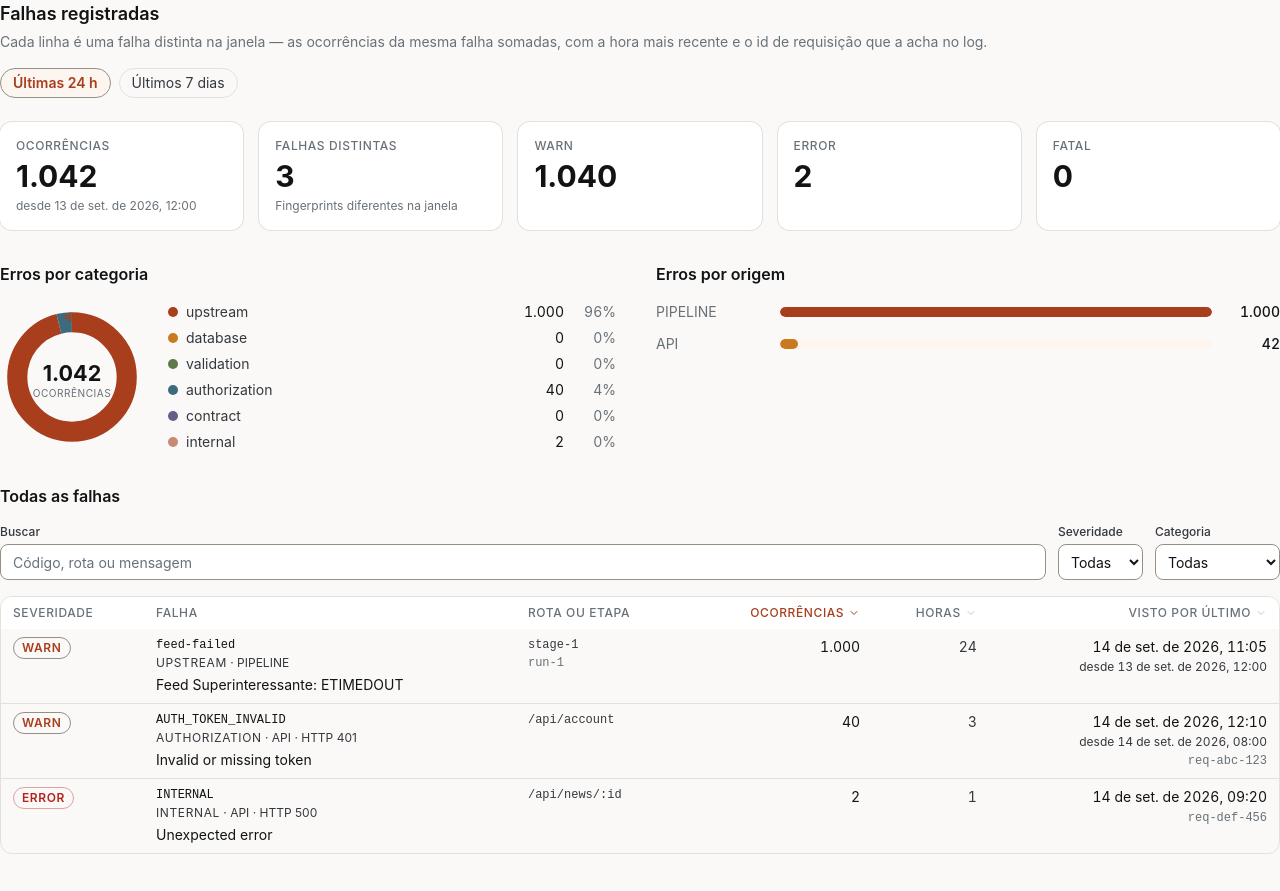
Test: SecurityClient — as falhas registradas › filters by severity, by category and by text
Select "ERROR" in the dropdown labelled "Severidade" at x=1100, y=562, box top-left (1058, 544), bottom-right (1143, 580)
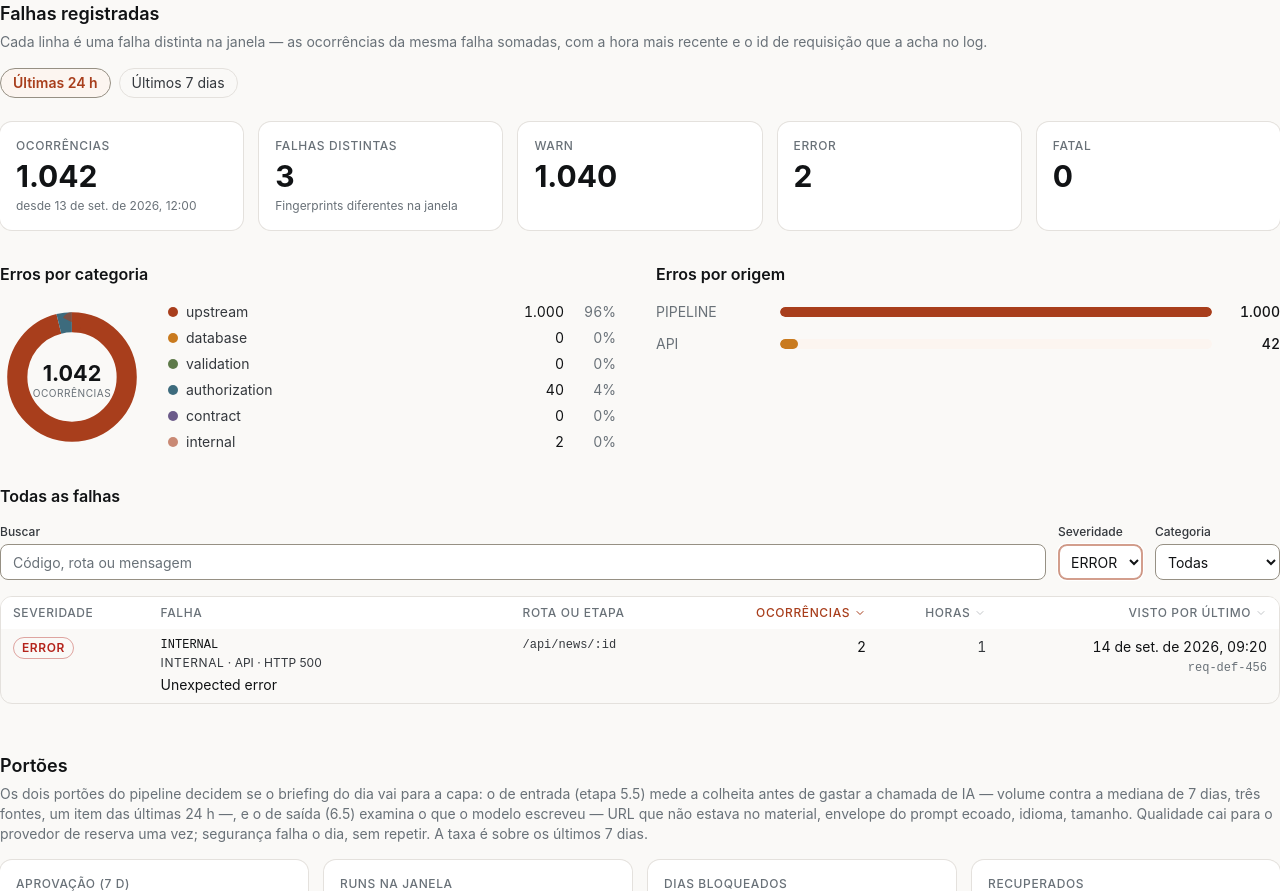
Expected: the text "INTERNAL" is shown, top-left (161, 638), bottom-right (218, 652)
Select "Todas" in the dropdown labelled "Severidade" at x=1100, y=562, box top-left (1058, 544), bottom-right (1143, 580)
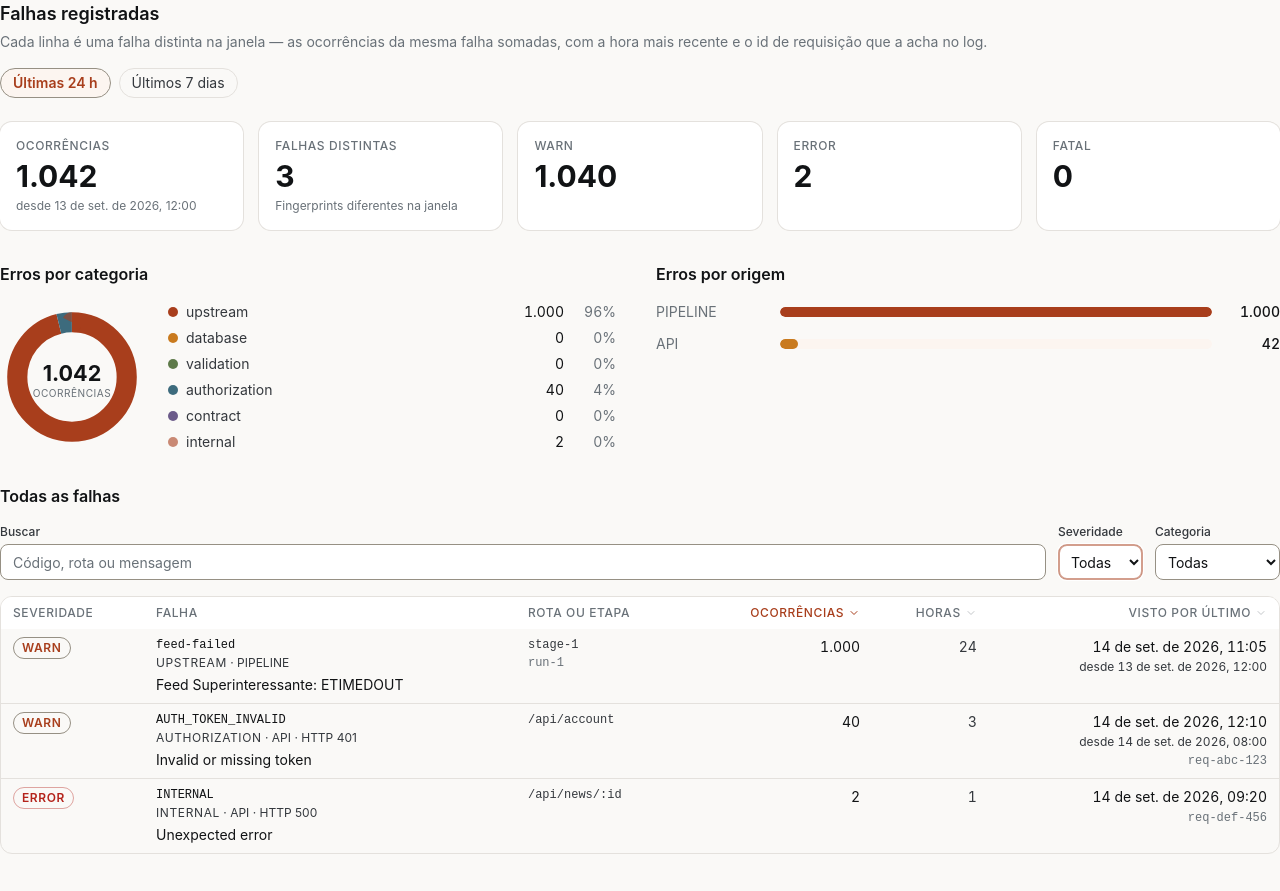
Select "authorization" in the dropdown labelled "Categoria" at x=1218, y=562, box top-left (1155, 544), bottom-right (1279, 580)
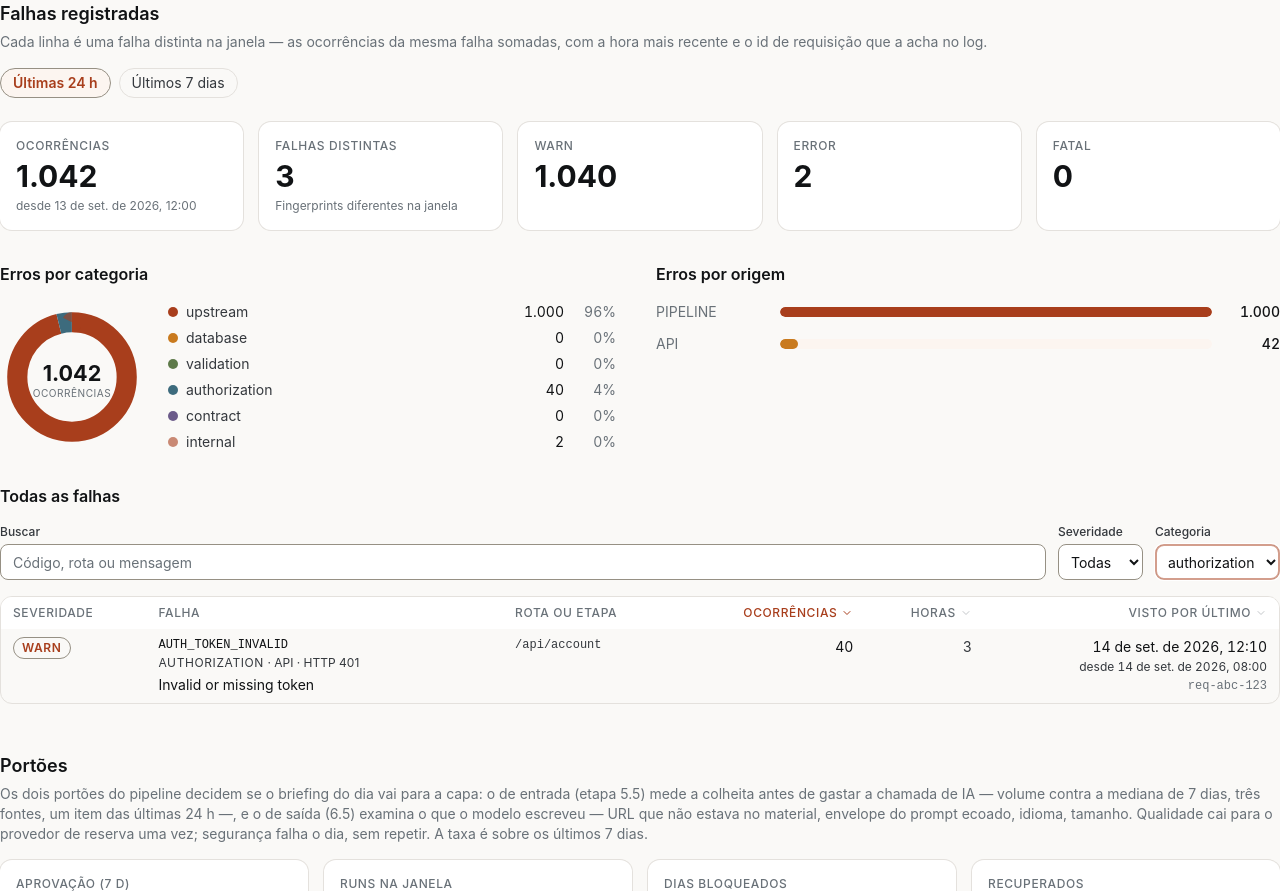
Expected: the text "AUTH_TOKEN_INVALID" is shown, top-left (158, 638), bottom-right (288, 652)
Select "Todas" in the dropdown labelled "Categoria" at x=1218, y=562, box top-left (1155, 544), bottom-right (1279, 580)
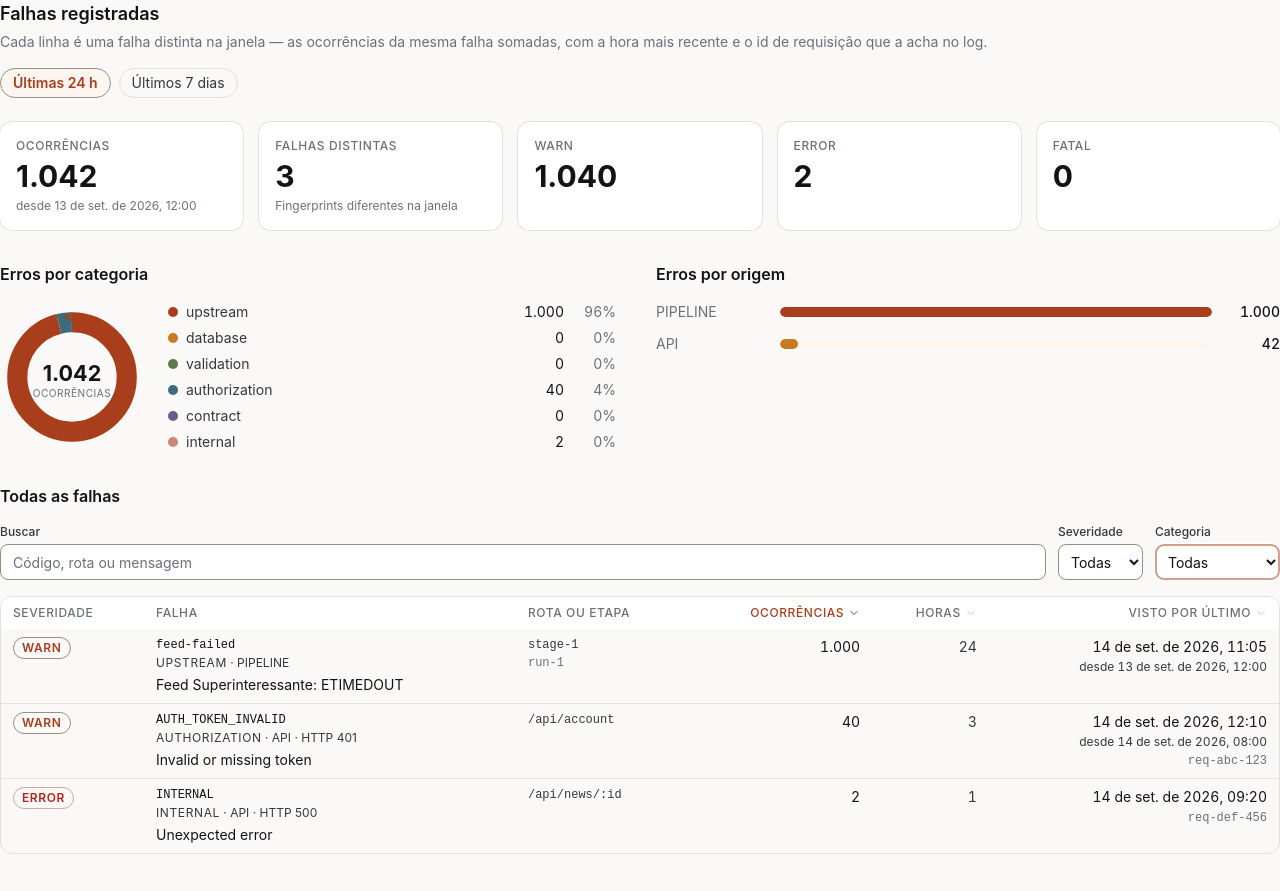
Type "ETIMEDOUT" into the search field labelled "Buscar" at x=523, y=562, box top-left (0, 544), bottom-right (1046, 580)
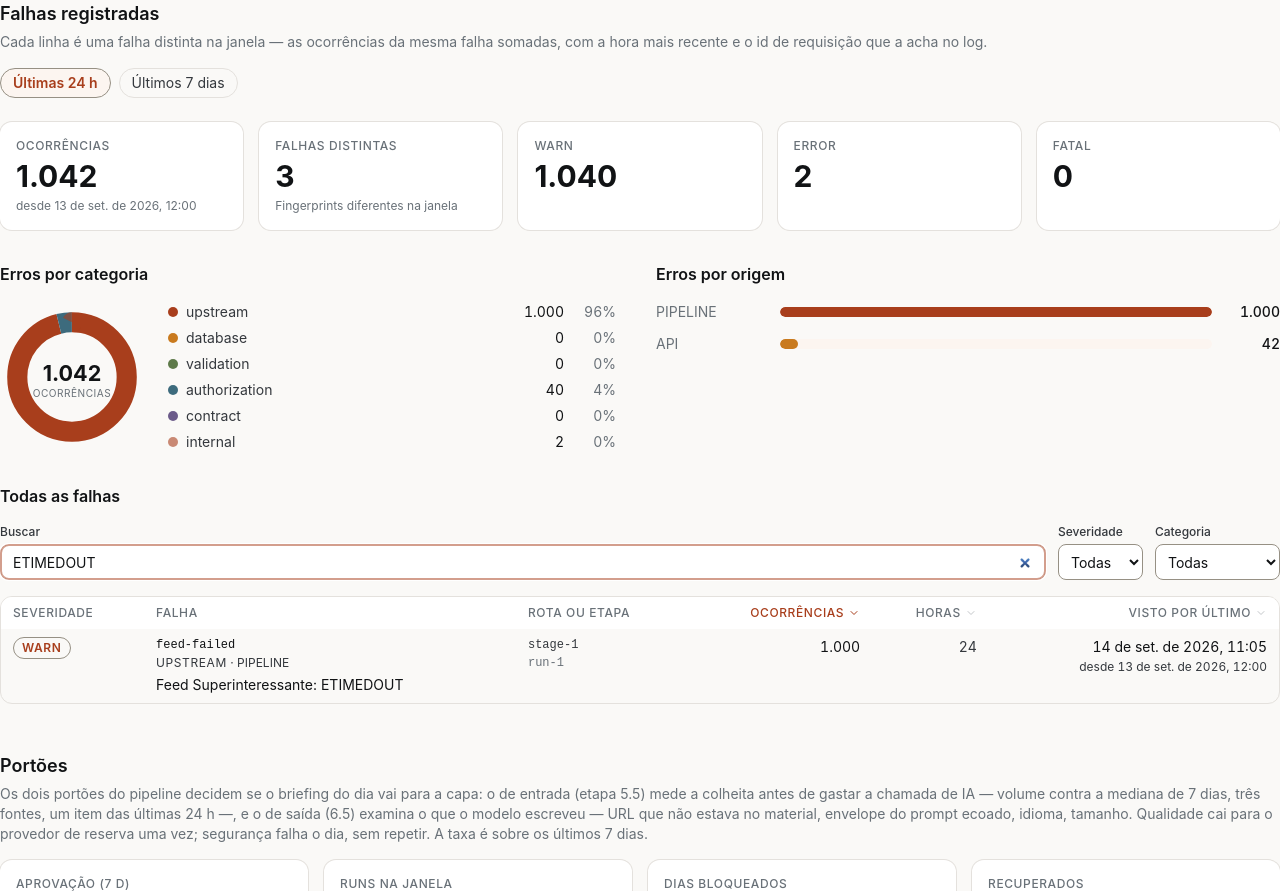
Expected: the text "feed-failed" is shown, top-left (156, 638), bottom-right (235, 652)
Replace the text in the search field labelled "Buscar" with "nada disso" at x=523, y=562, box top-left (0, 544), bottom-right (1046, 580)
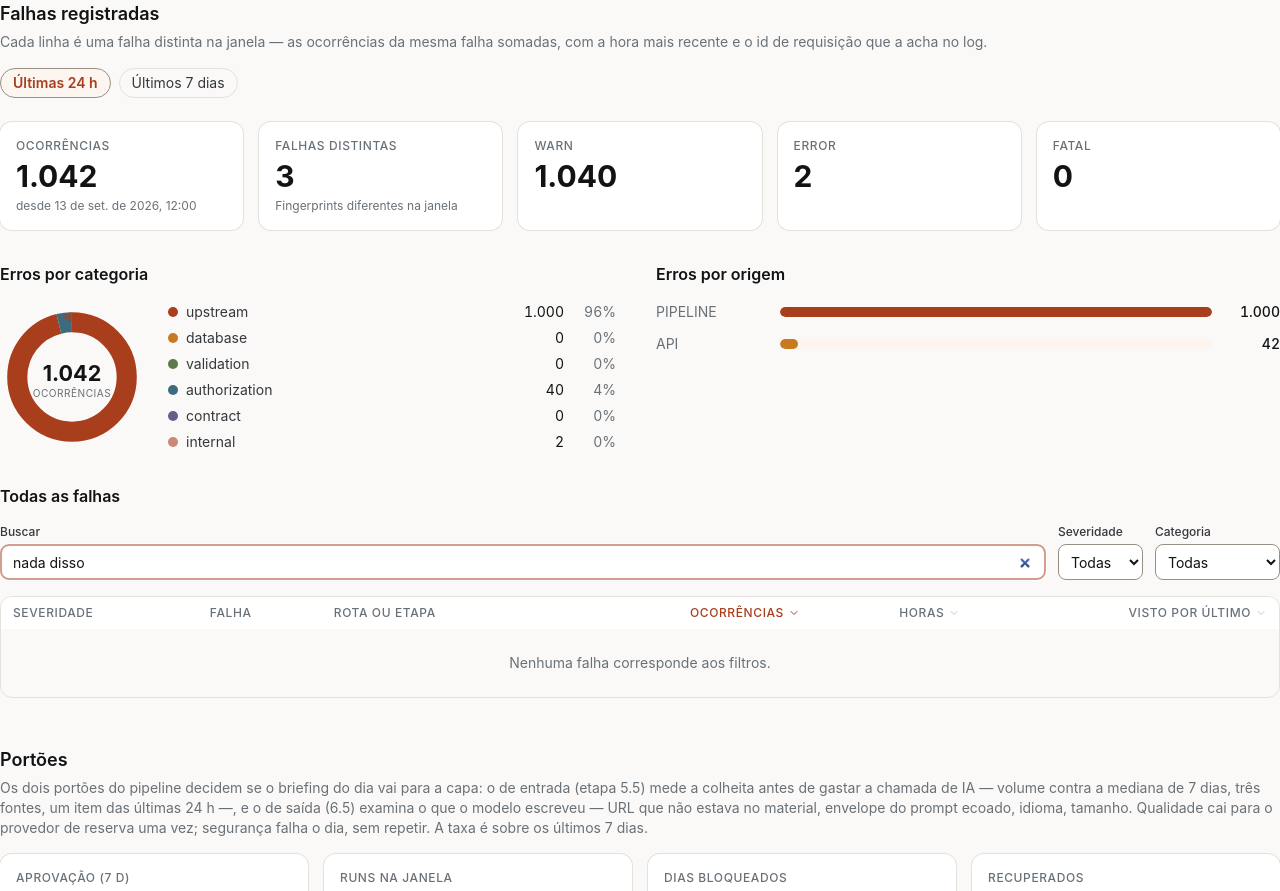
Expected: the text "Nenhuma falha corresponde aos filtros." is shown, top-left (1, 629), bottom-right (1279, 697)
